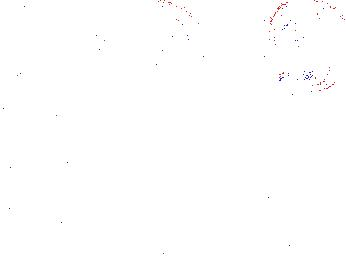moon jellyfish: (268, 1, 346, 93), (98, 2, 206, 64), (9, 1, 124, 43), (1, 5, 38, 98)
